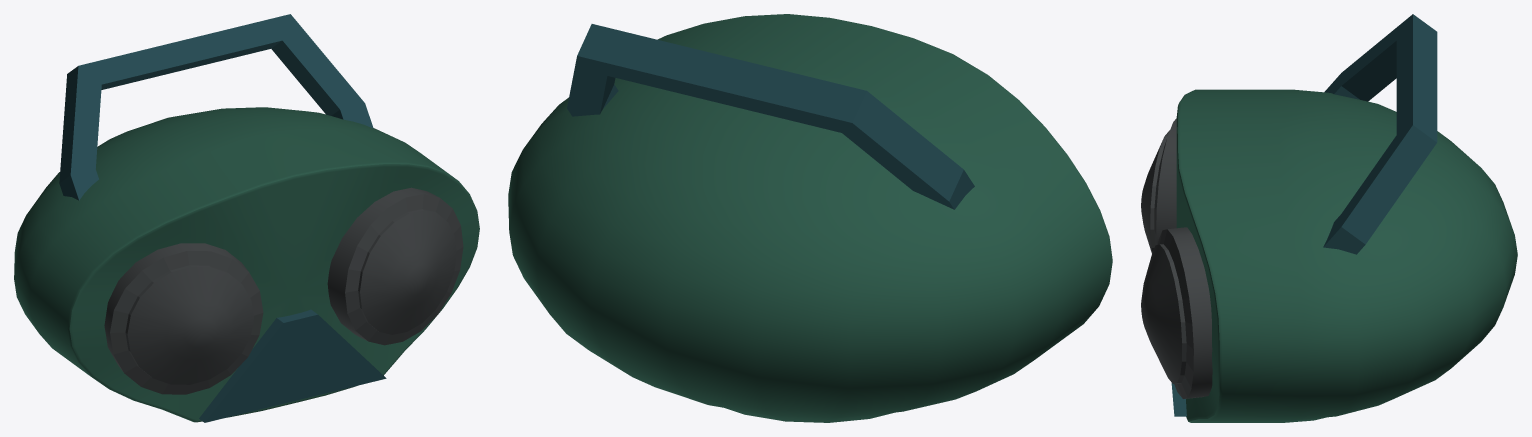
The model's file is Radio.fbx.
3 views of the same model, side by side, from view 1: azimuth 30°, elevation 25°; view 2: azimuth 150°, elevation 25°; view 3: azimuth 270°, elevation 25° (orthographic). The views are drawn at different scales.
Visible parts, largest first — view 1: pCube3; view 2: pCube3; view 3: pCube3.
Part boxes in pixels (bbox=[...]): pCube3: bbox=[14, 14, 479, 422]; pCube3: bbox=[508, 14, 1112, 422]; pCube3: bbox=[1141, 14, 1517, 422].
Bounding box in the file's own units: 11.95 × 7.88 × 8.83.
